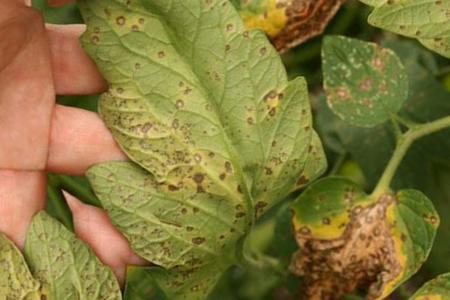Tomato Septoria leaf spot: (0, 0, 374, 300), (262, 144, 450, 300)
